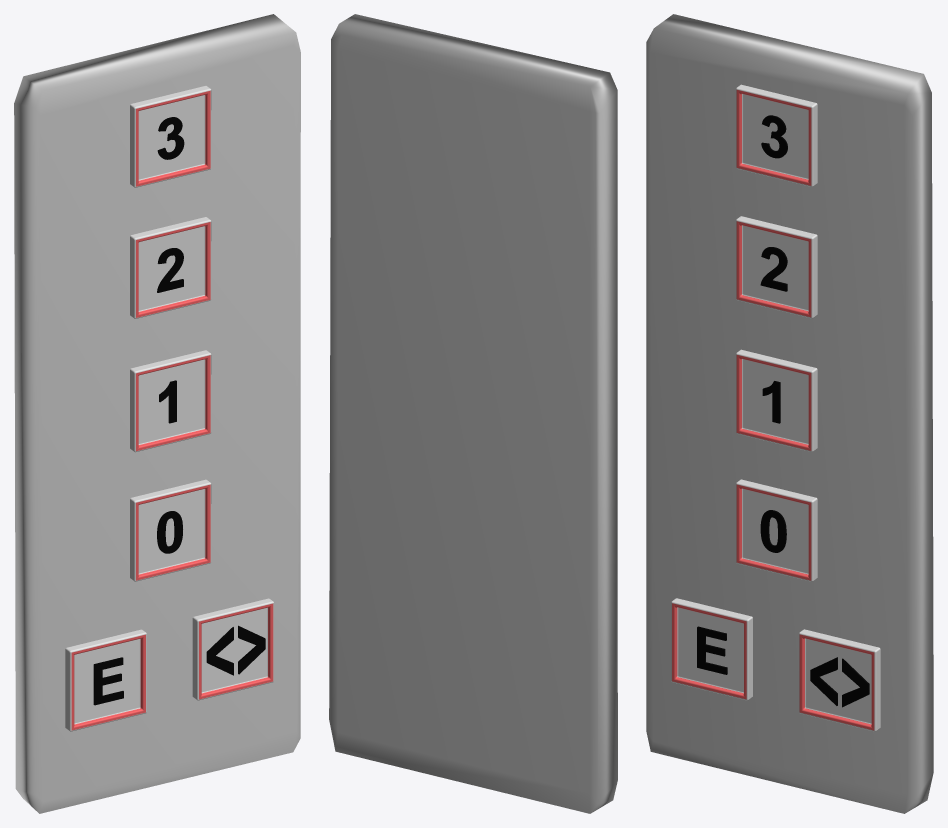
The picture shows the model from 3 angles, left to right: view 1: azimuth 30°, elevation 25°; view 2: azimuth 150°, elevation 25°; view 3: azimuth 330°, elevation 25°; orthographic projection.
Visible parts, largest first — view 1: Cube, Cube.003, Cube.001, Cube.002, Cube.005, Cube.006, Cube.004, Text.004, Text.003, Text.005, Text.001, Text.002; view 2: Cube; view 3: Cube, Cube.003, Cube.001, Cube.002, Cube.005, Cube.006, Cube.004, Text.004, Text.003, Text.005, Text.001, Text.002.
Part boxes in pixels (bbox=[...]): Cube: bbox=[14, 14, 300, 813]; Cube.003: bbox=[130, 350, 211, 452]; Cube.001: bbox=[130, 86, 211, 187]; Cube.002: bbox=[130, 217, 211, 318]; Cube.005: bbox=[130, 479, 211, 581]; Cube.006: bbox=[65, 629, 146, 731]; Cube.004: bbox=[192, 598, 273, 700]; Text.004: bbox=[206, 625, 265, 675]; Text.003: bbox=[93, 657, 123, 705]; Text.005: bbox=[157, 511, 182, 553]; Text.001: bbox=[157, 248, 183, 292]; Text.002: bbox=[157, 117, 184, 159]; Cube: bbox=[329, 14, 617, 813]; Cube: bbox=[646, 14, 933, 813]; Cube.003: bbox=[736, 349, 817, 451]; Cube.001: bbox=[736, 84, 817, 186]; Cube.002: bbox=[736, 216, 817, 318]; Cube.005: bbox=[736, 479, 817, 581]; Cube.006: bbox=[671, 598, 752, 700]; Cube.004: bbox=[799, 629, 880, 731]; Text.004: bbox=[810, 657, 869, 707]; Text.003: bbox=[697, 626, 727, 674]; Text.005: bbox=[760, 510, 786, 552]; Text.001: bbox=[760, 247, 787, 291]; Text.002: bbox=[761, 115, 787, 158].
Bounding box in the file's own units: 0.77 × 1.98 × 0.1263.
